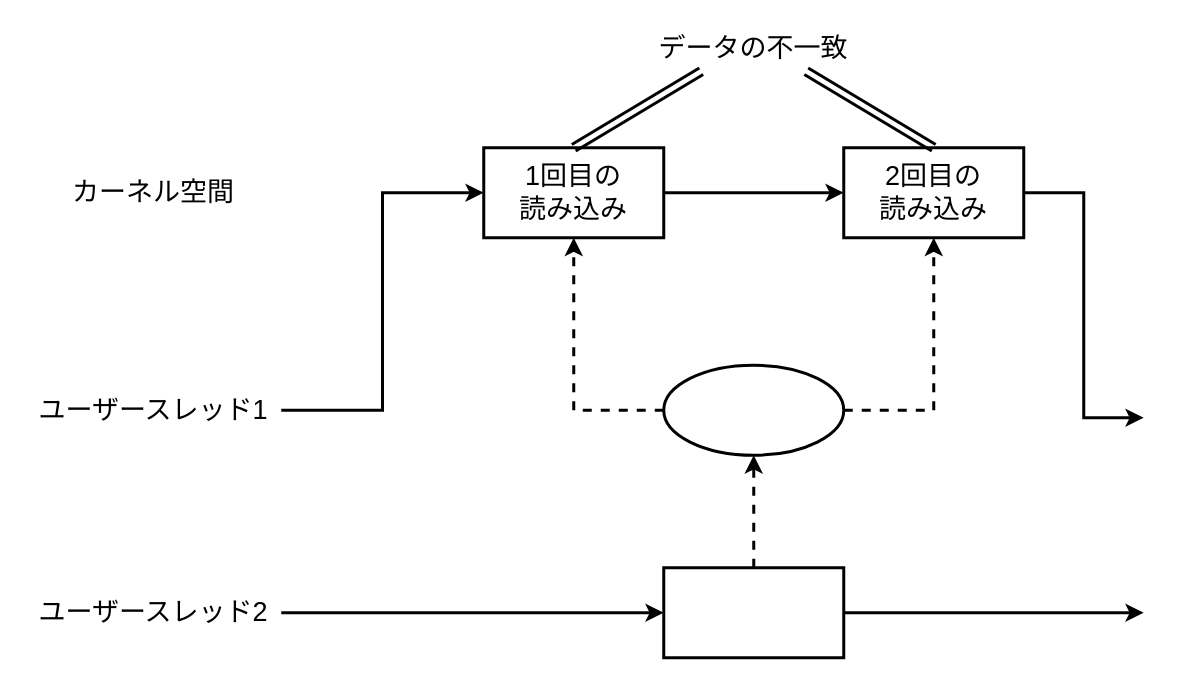
Image size: 1182x684. Some labels were removed from this diagram. The shapes that lost their labels are listed below. From the top down, each one's centre as x and y in pixels, then its label:
At [753,409]: "データ".
At [753,612]: "データの 変更".
